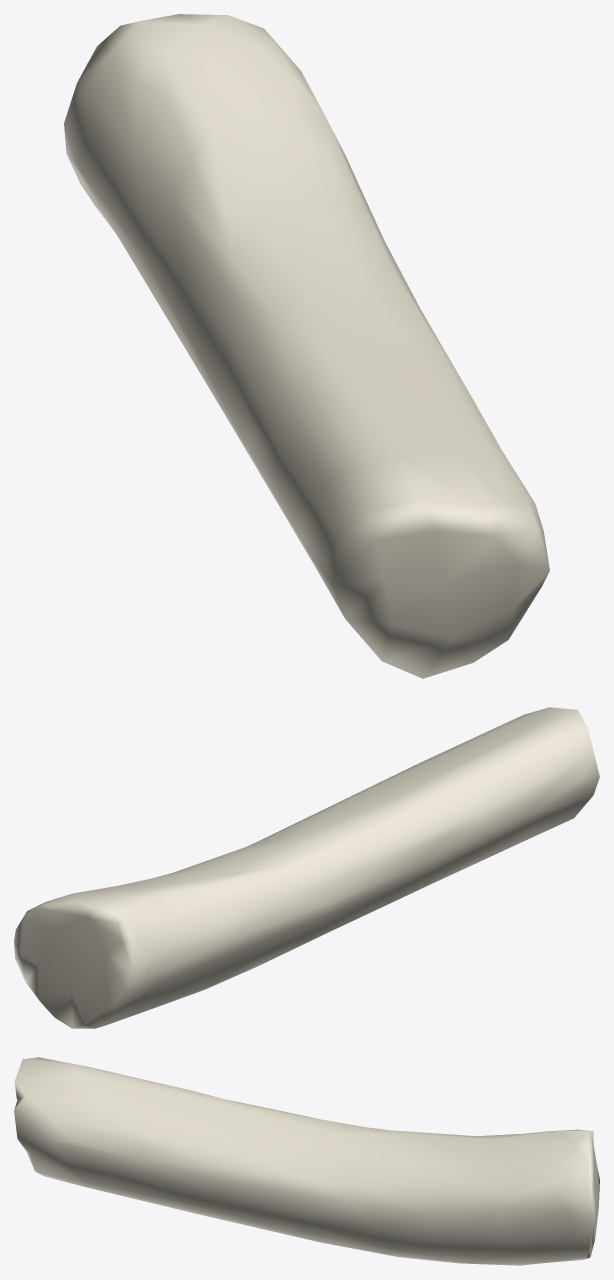
The model's file is fma60896_mm1041.glb.
3 renders of one model, top to bottom at view 1: azimuth 30°, elevation 25°; view 2: azimuth 150°, elevation 25°; view 3: azimuth 270°, elevation 25°, orthographic. The views are drawn at different scales.
Visible parts, largest first — view 1: FMA60896_MM1041; view 2: FMA60896_MM1041; view 3: FMA60896_MM1041.
Part boxes in pixels (x1=…): FMA60896_MM1041: x1=64, y1=14, x2=549, y2=678; FMA60896_MM1041: x1=14, y1=707, x2=599, y2=1028; FMA60896_MM1041: x1=14, y1=1057, x2=599, y2=1265.
Size of the model in its own units: 0.00116 by 0.00058 by 0.00239.
